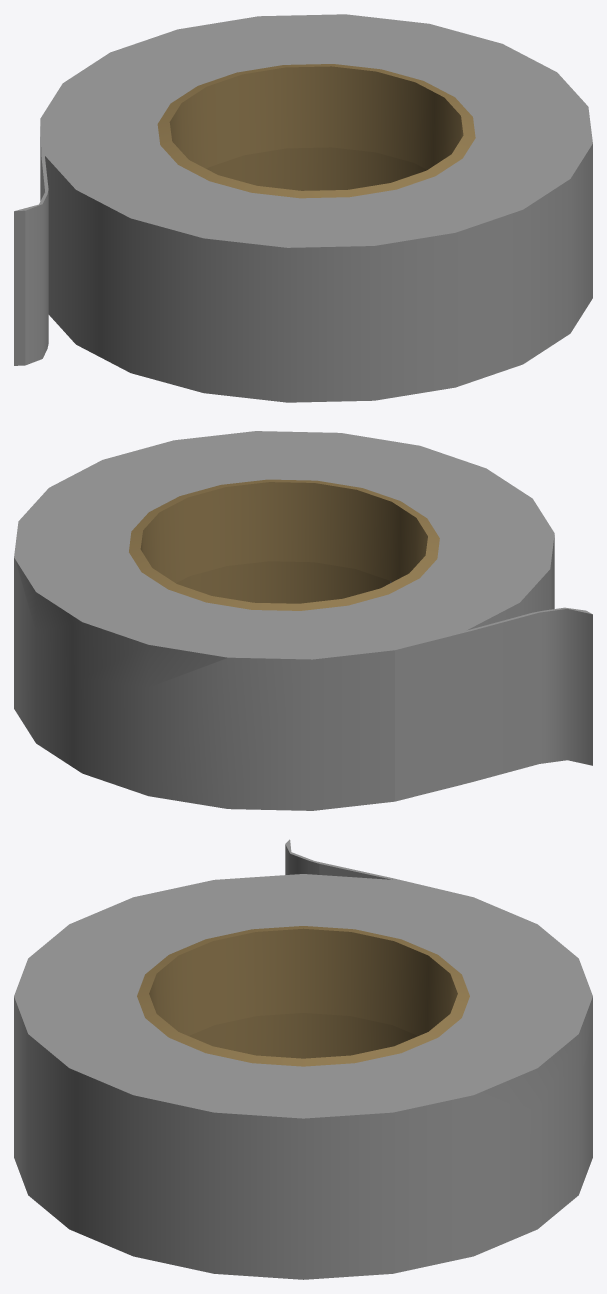
The model's file is Duct_Tape.fbx.
3 renders of one model, top to bottom at view 1: azimuth 30°, elevation 25°; view 2: azimuth 150°, elevation 25°; view 3: azimuth 270°, elevation 25°, orthographic. The views are drawn at different scales.
Parts seen in each view (by area): view 1: pTorus1; view 2: pTorus1; view 3: pTorus1.
Boxes of the visible parts, box(x1,y1,x2,y2) form: pTorus1: box(14, 14, 592, 402); pTorus1: box(14, 431, 592, 810); pTorus1: box(14, 839, 592, 1279).
Size of the model in its own units: 2.18 by 0.6062 by 1.91.
